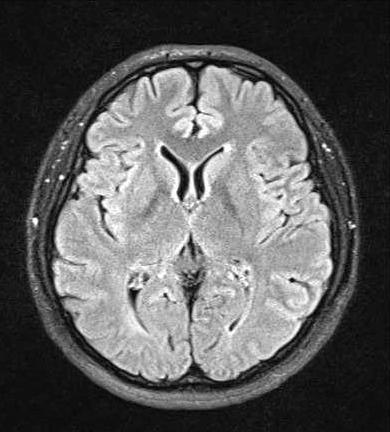Normal_Brain: (1, 14, 380, 432)
